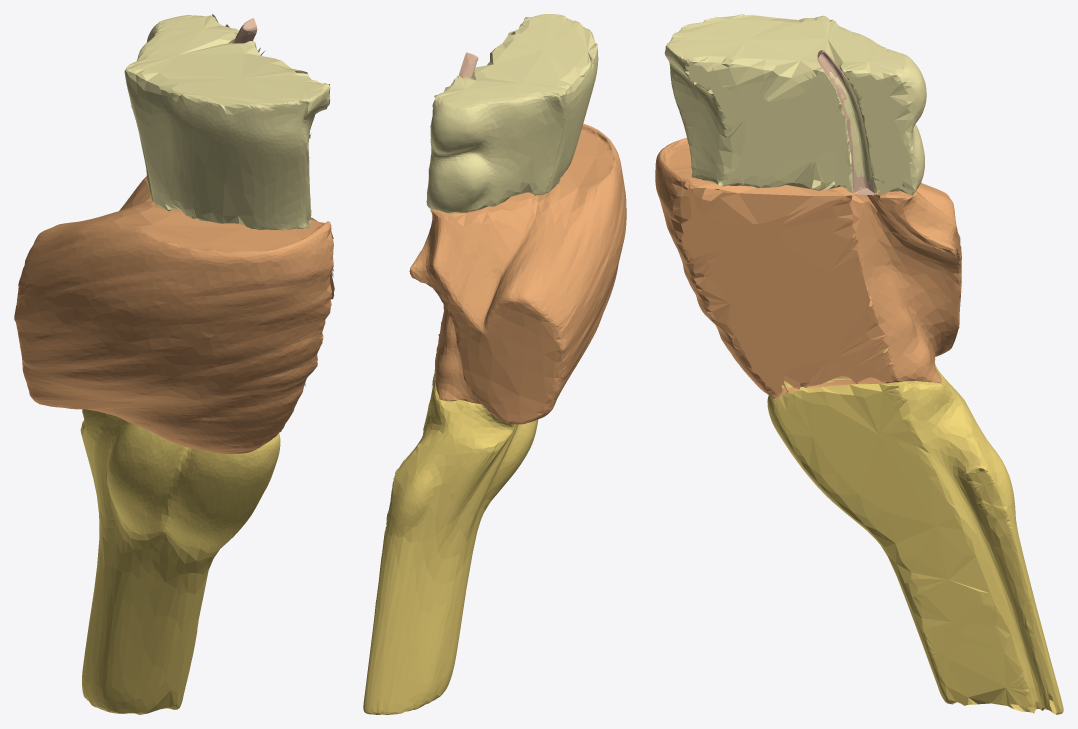
File: tronco_encefalico_interno.glb
3 views of the same model, side by side, from view 1: azimuth 30°, elevation 25°; view 2: azimuth 150°, elevation 25°; view 3: azimuth 270°, elevation 25° (orthographic). The views are drawn at different scales.
Parts seen in each view (by area): view 1: pons, medulla oblongata, midbrain; view 2: pons, medulla oblongata, midbrain; view 3: pons, medulla oblongata, midbrain, cerebral aqueduct.
Boxes of the visible parts, x1=… form: pons: x1=14, y1=176, x2=334, y2=453; medulla oblongata: x1=80, y1=409, x2=280, y2=714; midbrain: x1=124, y1=14, x2=330, y2=230; pons: x1=409, y1=124, x2=626, y2=424; medulla oblongata: x1=363, y1=370, x2=538, y2=714; midbrain: x1=426, y1=14, x2=598, y2=213; pons: x1=655, y1=137, x2=961, y2=399; medulla oblongata: x1=767, y1=349, x2=1063, y2=714; midbrain: x1=664, y1=14, x2=926, y2=195; cerebral aqueduct: x1=817, y1=50, x2=875, y2=195.
Bounding box in the file's own units: 21.02 × 81.77 × 45.62.
